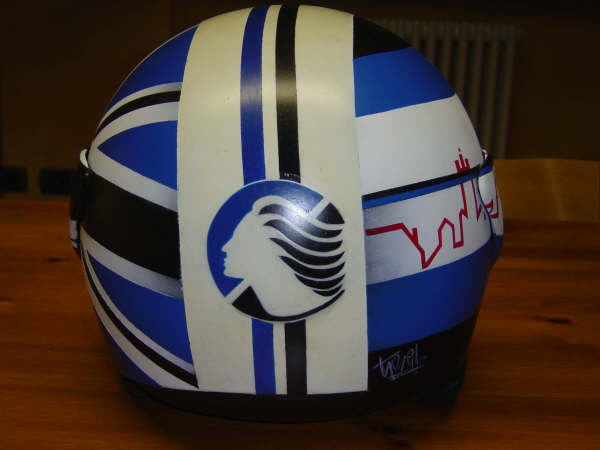helmet: (87, 21, 493, 413)
